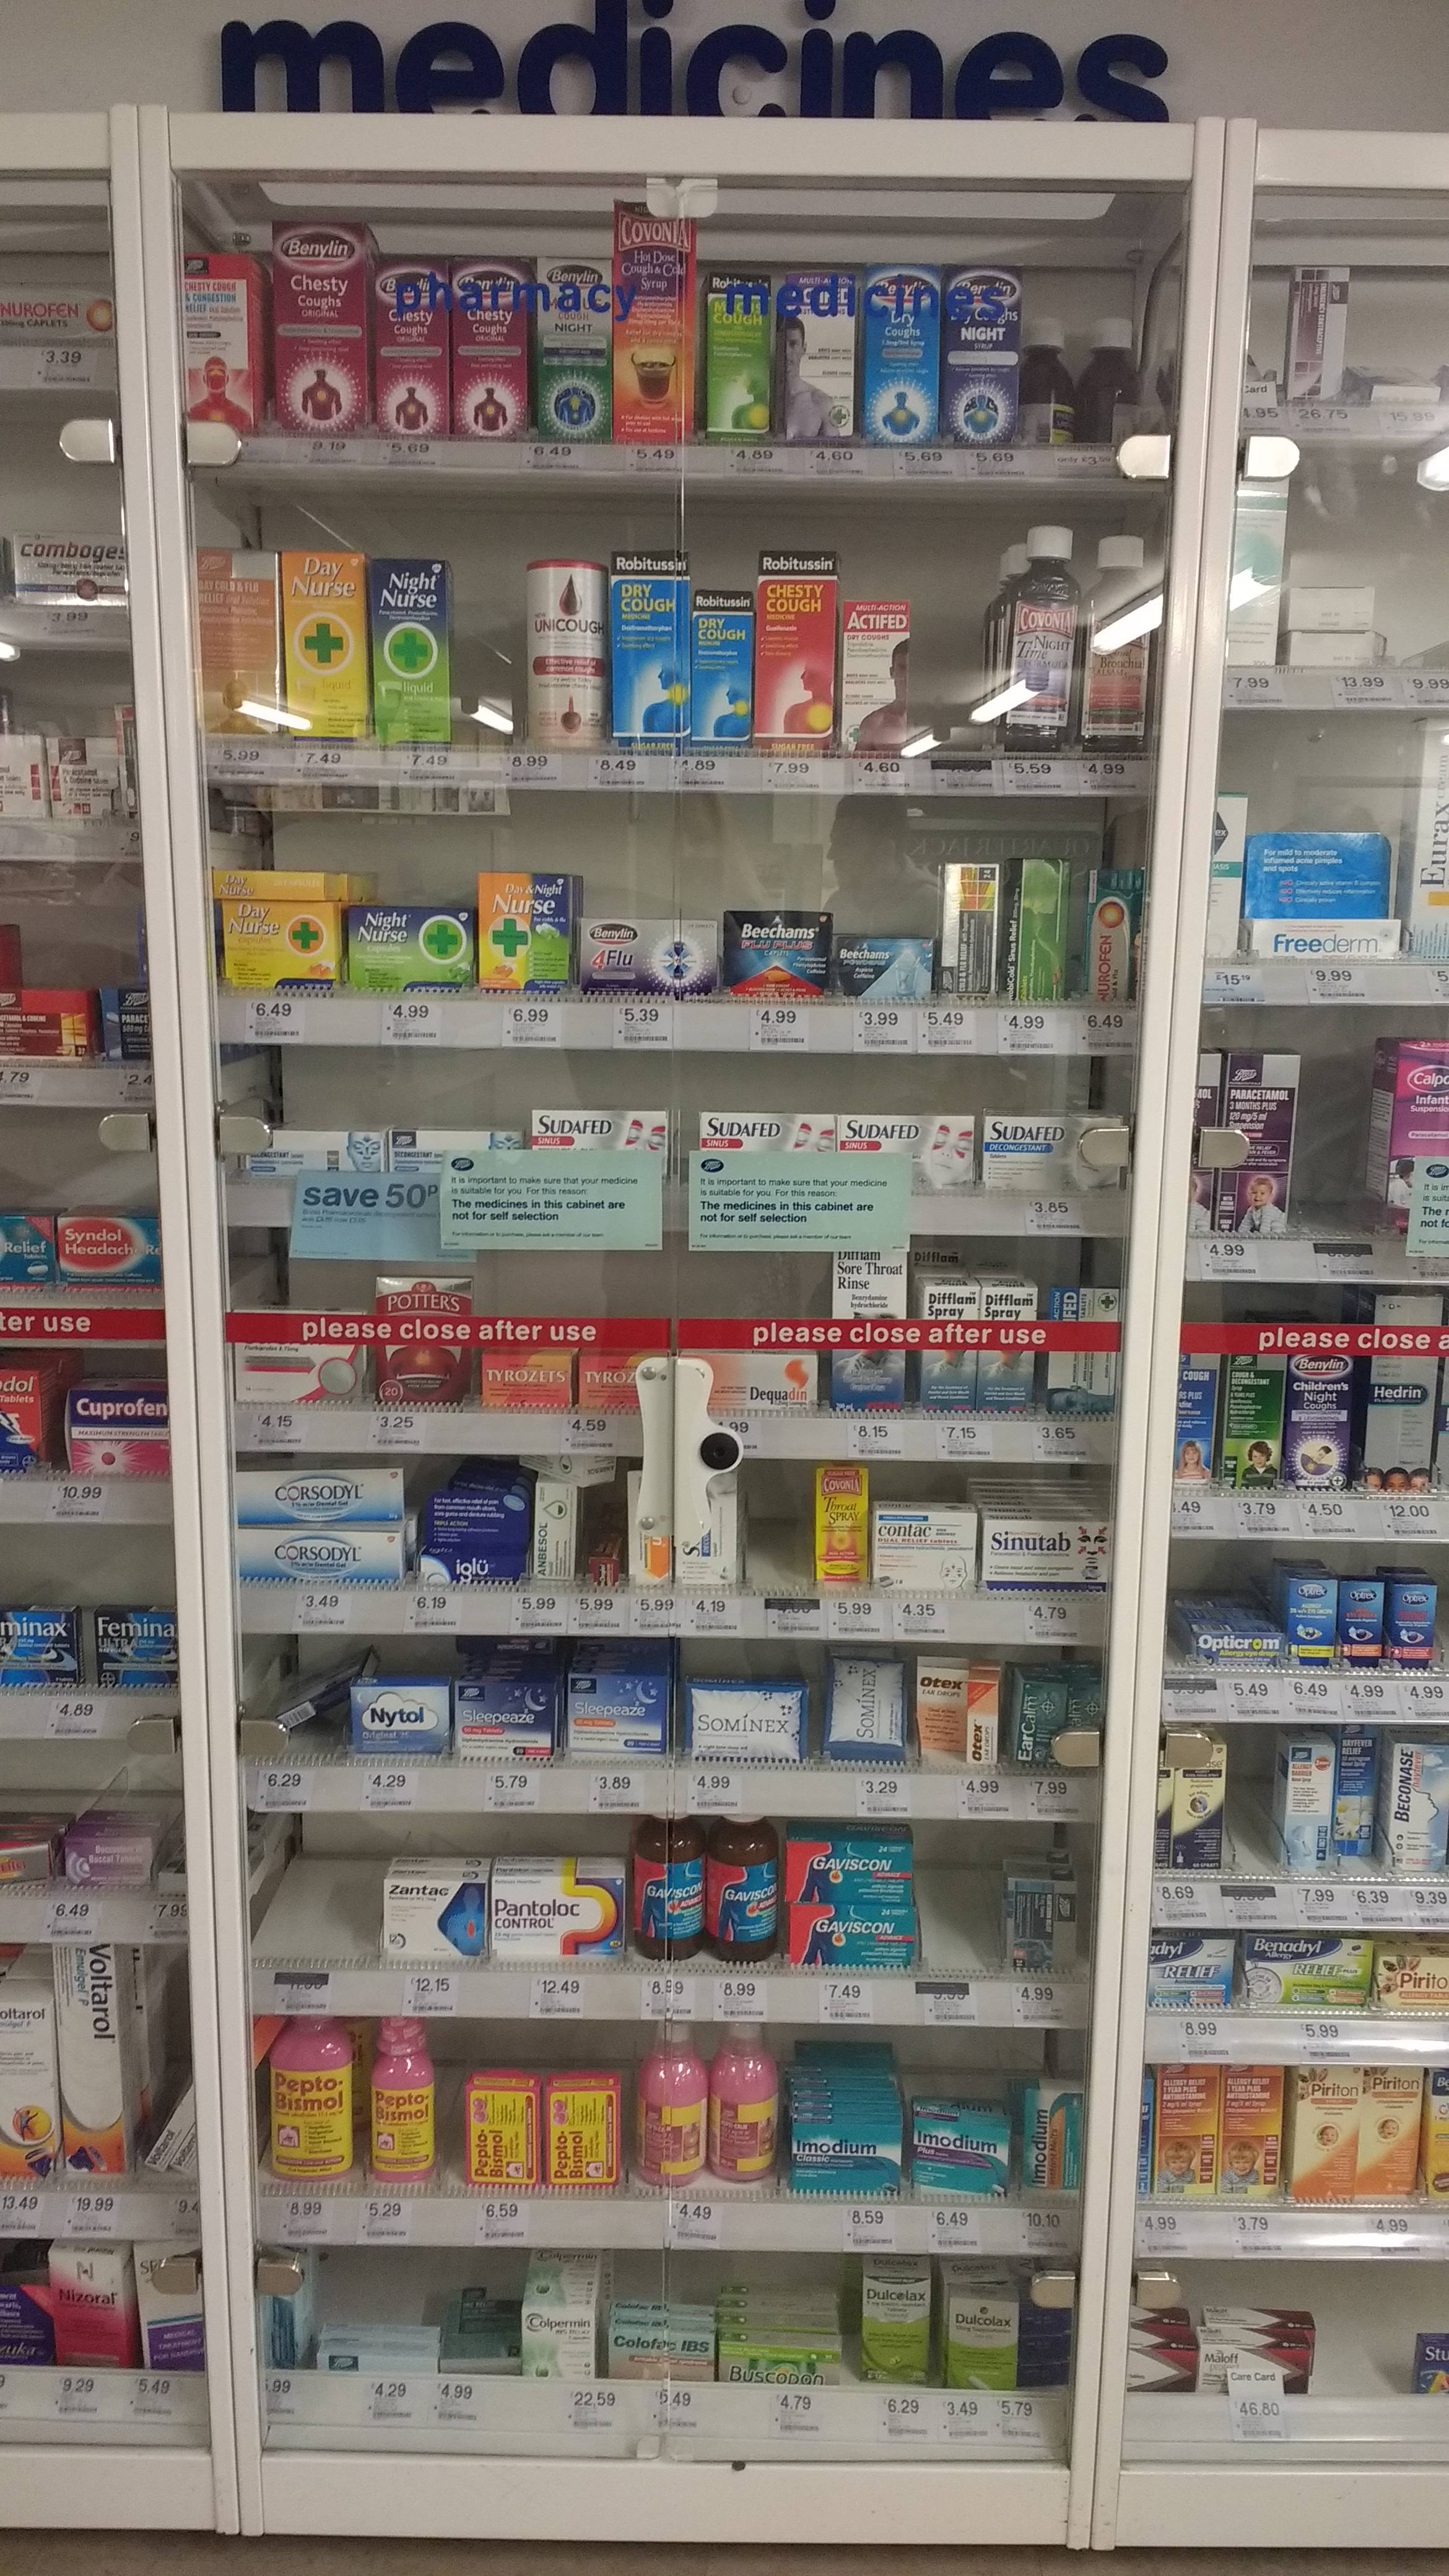product: (274, 216, 364, 439), (1247, 833, 1401, 961), (614, 195, 690, 449), (281, 552, 370, 743), (1077, 534, 1154, 752), (64, 1946, 134, 2178), (195, 543, 280, 734), (1003, 525, 1074, 752), (373, 556, 456, 741), (609, 550, 686, 747), (175, 253, 257, 439), (757, 550, 832, 752), (522, 563, 603, 747), (370, 249, 448, 439), (941, 258, 1017, 451), (531, 257, 609, 442), (451, 257, 529, 441), (269, 2013, 356, 2174), (1362, 1292, 1431, 1491), (584, 1355, 819, 1414), (225, 1309, 368, 1403), (1380, 1044, 1449, 1237), (370, 1276, 472, 1401), (364, 2017, 437, 2194), (782, 269, 853, 449), (862, 265, 932, 446), (833, 1230, 902, 1408), (630, 2020, 704, 2185), (833, 600, 909, 755), (704, 1810, 778, 1964), (908, 1661, 1008, 1775), (1223, 1053, 1286, 1231), (982, 1511, 1116, 1594), (492, 1877, 626, 1960), (704, 271, 770, 441), (479, 870, 573, 989), (1403, 722, 1449, 962), (345, 904, 472, 991), (50, 2236, 133, 2369), (1230, 460, 1283, 667), (223, 902, 338, 996), (633, 1810, 702, 1964), (980, 1113, 1125, 1185), (1238, 1930, 1369, 2010), (784, 2121, 906, 2206), (580, 916, 717, 993), (708, 2020, 771, 2181), (2, 1987, 57, 2171), (533, 1113, 671, 1185), (1223, 1338, 1284, 1497), (695, 1111, 837, 1180), (230, 1468, 402, 1525), (840, 1118, 975, 1189), (16, 531, 133, 612), (1001, 853, 1063, 1005), (672, 1458, 741, 1594), (692, 1683, 809, 1762), (1288, 2066, 1355, 2204), (720, 911, 832, 994), (1288, 1334, 1346, 1491), (451, 1675, 559, 1760), (784, 1838, 918, 1905), (543, 2075, 621, 2190), (695, 587, 750, 750), (1047, 1288, 1118, 1414), (237, 1534, 403, 1587), (419, 1504, 522, 1589), (824, 1652, 902, 1764), (858, 2275, 936, 2387), (380, 1881, 487, 1962), (1072, 870, 1136, 1005), (1384, 1743, 1445, 1879), (1001, 1872, 1083, 1974), (464, 2075, 536, 2190), (1284, 587, 1380, 674), (1076, 308, 1138, 439), (939, 862, 1000, 996), (568, 1677, 669, 1757), (58, 1217, 166, 1292), (1292, 262, 1350, 398), (916, 2109, 1012, 2192), (878, 1511, 975, 1592), (0, 288, 111, 359), (787, 1905, 916, 1966), (50, 738, 117, 853), (145, 2240, 203, 2371), (1223, 2063, 1279, 2197), (1276, 1739, 1330, 1877), (92, 1608, 182, 1690), (1161, 2063, 1214, 2201), (1359, 2066, 1415, 2196), (73, 1398, 172, 1470), (476, 1346, 580, 1414), (234, 1131, 386, 1177), (389, 1134, 525, 1185), (816, 1461, 870, 1589), (1023, 308, 1072, 448), (1146, 1930, 1235, 2008), (982, 1281, 1035, 1410), (924, 1281, 975, 1412), (2, 989, 92, 1063), (354, 1684, 451, 1752), (4, 1608, 87, 1686), (948, 2295, 1017, 2388), (1334, 1718, 1378, 1861), (833, 939, 938, 1000), (1173, 1329, 1212, 1488), (1180, 1732, 1224, 1872), (522, 2309, 600, 2385), (621, 1463, 667, 1591), (258, 2247, 306, 2369), (720, 2346, 846, 2390), (1026, 2084, 1079, 2189), (58, 1831, 152, 1890), (1205, 2341, 1307, 2394), (1212, 791, 1244, 957), (610, 2332, 717, 2381), (1387, 1575, 1438, 1675), (1014, 1670, 1065, 1767), (2, 734, 46, 846), (1334, 1575, 1384, 1672), (529, 1476, 573, 1583), (1118, 2335, 1198, 2394), (1284, 1573, 1332, 1668), (212, 869, 340, 902), (1378, 1959, 1449, 2013), (1192, 1628, 1286, 1668), (99, 989, 150, 1063), (1069, 1674, 1108, 1764), (315, 2346, 439, 2373), (260, 1679, 340, 1711), (2, 1840, 57, 1884), (1362, 373, 1437, 403), (439, 2351, 522, 2376), (1028, 2305, 1072, 2335), (1023, 2339, 1076, 2364), (593, 1550, 617, 1596), (1019, 2365, 1076, 2381)
